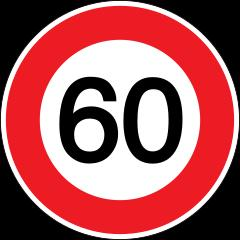Speed Limit -60-: (39, 55, 197, 188)
